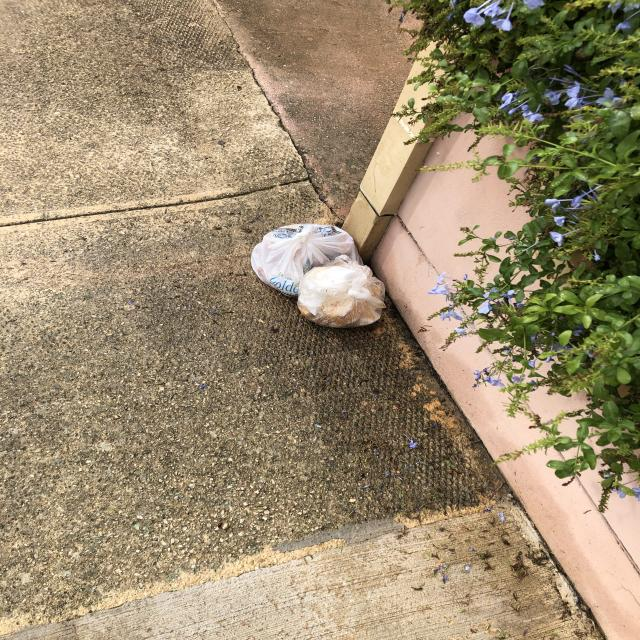Organic Waste -White Bag-: (252, 225, 364, 298), (299, 256, 387, 328)
